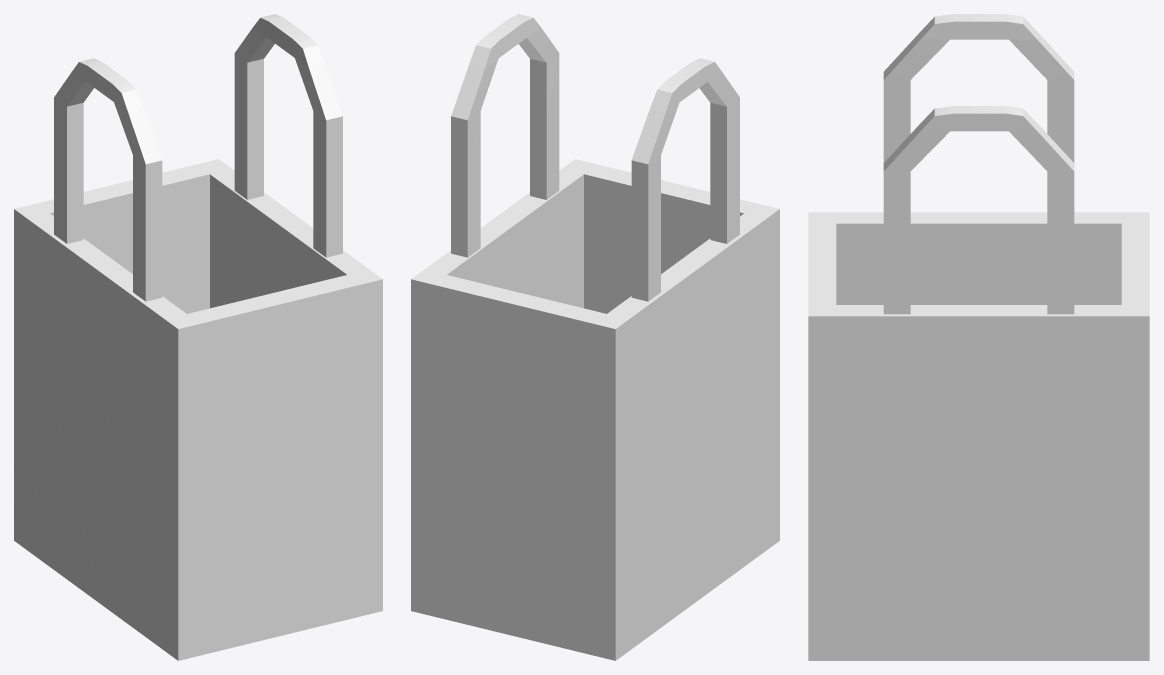
File: Grocery Bag.fbx
The picture shows the model from 3 angles, left to right: view 1: azimuth 30°, elevation 25°; view 2: azimuth 150°, elevation 25°; view 3: azimuth 270°, elevation 25°; orthographic projection. The views are drawn at different scales.
Parts seen in each view (by area): view 1: pCube6; view 2: pCube6; view 3: pCube6.
Part boxes in pixels (x1,y1,x2,y2): pCube6: (14, 14, 382, 660); pCube6: (411, 14, 779, 660); pCube6: (808, 14, 1149, 660).
Size of the model in its own units: 3.46 by 8.49 by 4.82.
